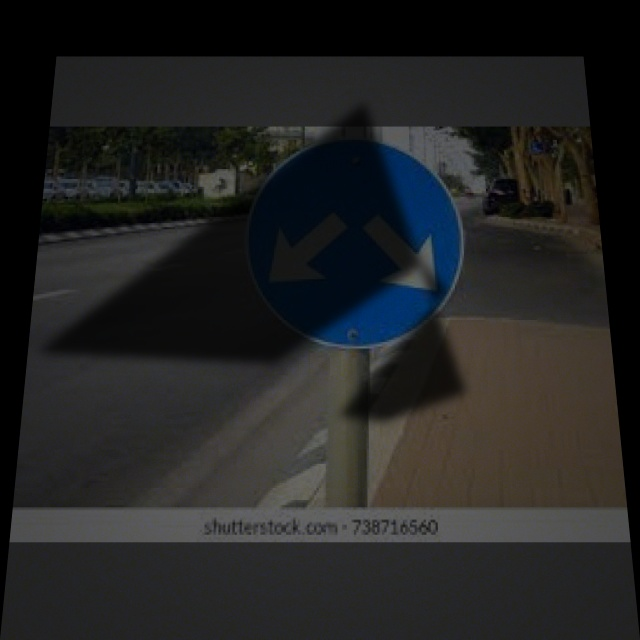Pass_Either_Side: (241, 137, 472, 349)
